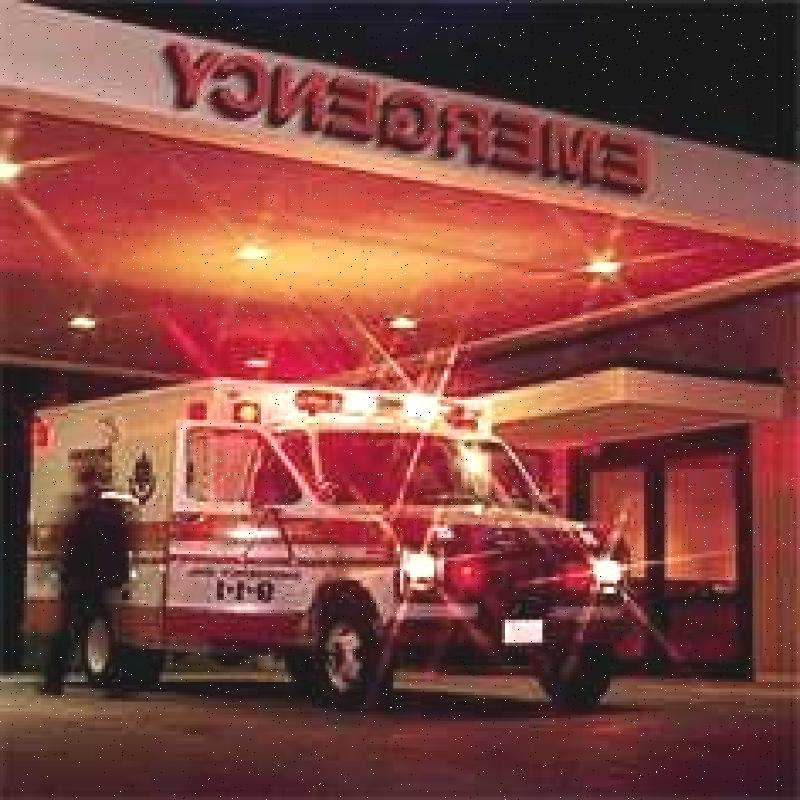AmbulanceSiren: (252, 374, 509, 442)
